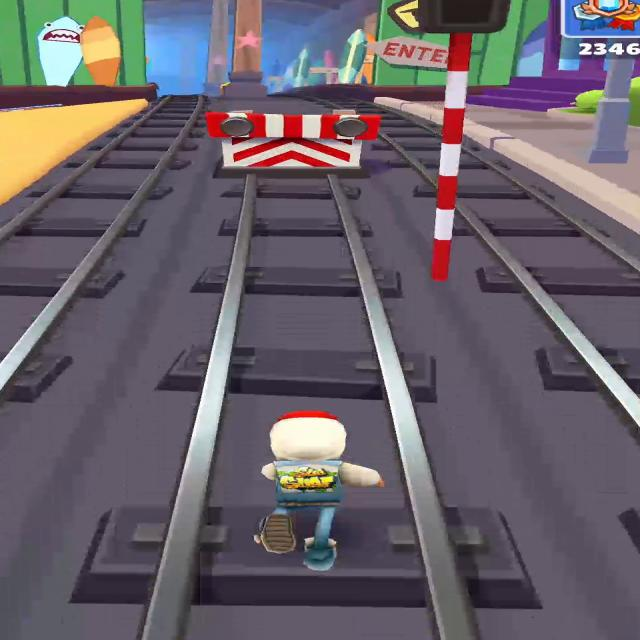roll blocker: (206, 110, 381, 177)
